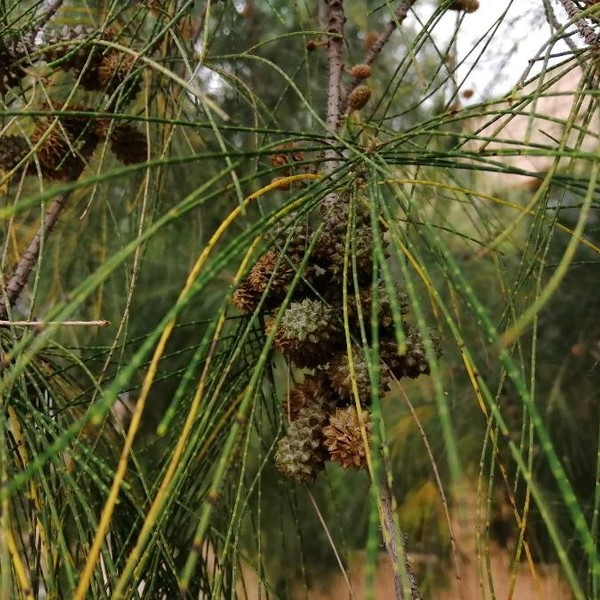obstacle: (165, 89, 493, 513)
